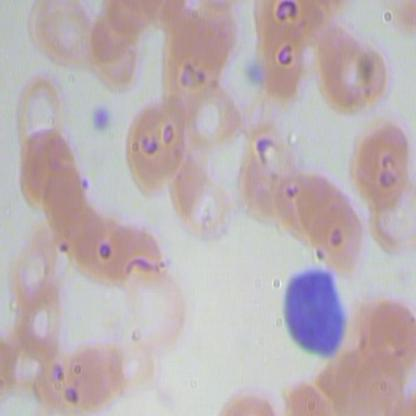Platelets: (91, 102, 113, 136), (242, 54, 264, 88)
RBC: (121, 97, 191, 205), (307, 13, 367, 120), (354, 111, 414, 217), (14, 123, 80, 211), (111, 204, 172, 294), (172, 162, 233, 252), (355, 287, 415, 370), (285, 166, 346, 247), (317, 334, 378, 415), (89, 13, 150, 94), (250, 26, 311, 107), (309, 198, 369, 280), (255, 154, 315, 236), (355, 334, 415, 415), (60, 194, 112, 282), (40, 168, 91, 256), (7, 226, 59, 312), (9, 66, 61, 152), (76, 202, 127, 289), (13, 271, 64, 356), (62, 346, 126, 412), (335, 36, 394, 107), (183, 82, 242, 152), (365, 179, 416, 259), (100, 337, 166, 394)
WBC: (270, 264, 346, 370)
